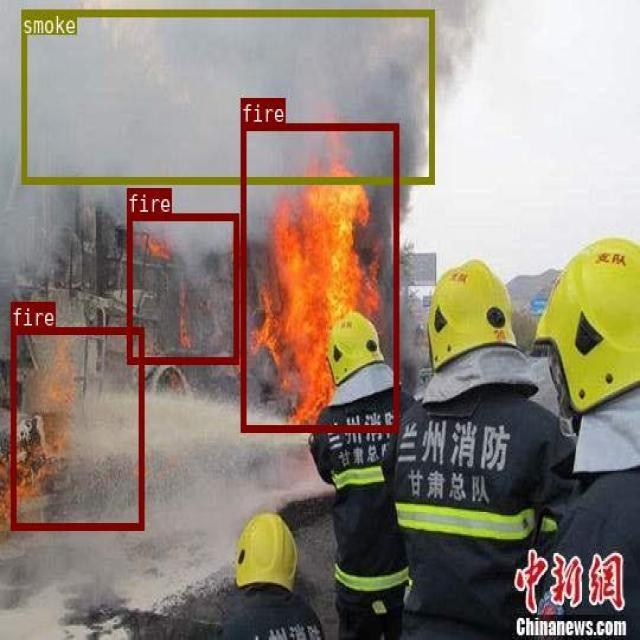fire: (240, 122, 397, 431), (10, 327, 143, 528), (127, 212, 238, 362)
smoke: (21, 9, 433, 183)
